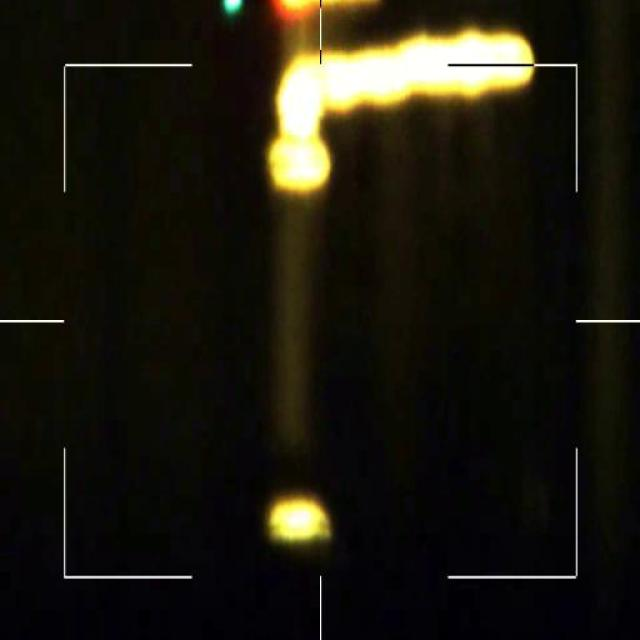bird: (220, 0, 315, 19)
